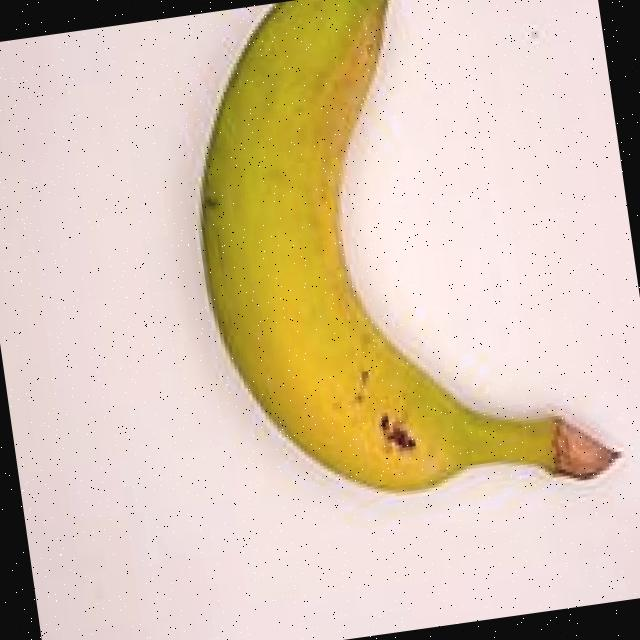Unripe: (132, 0, 639, 567)
